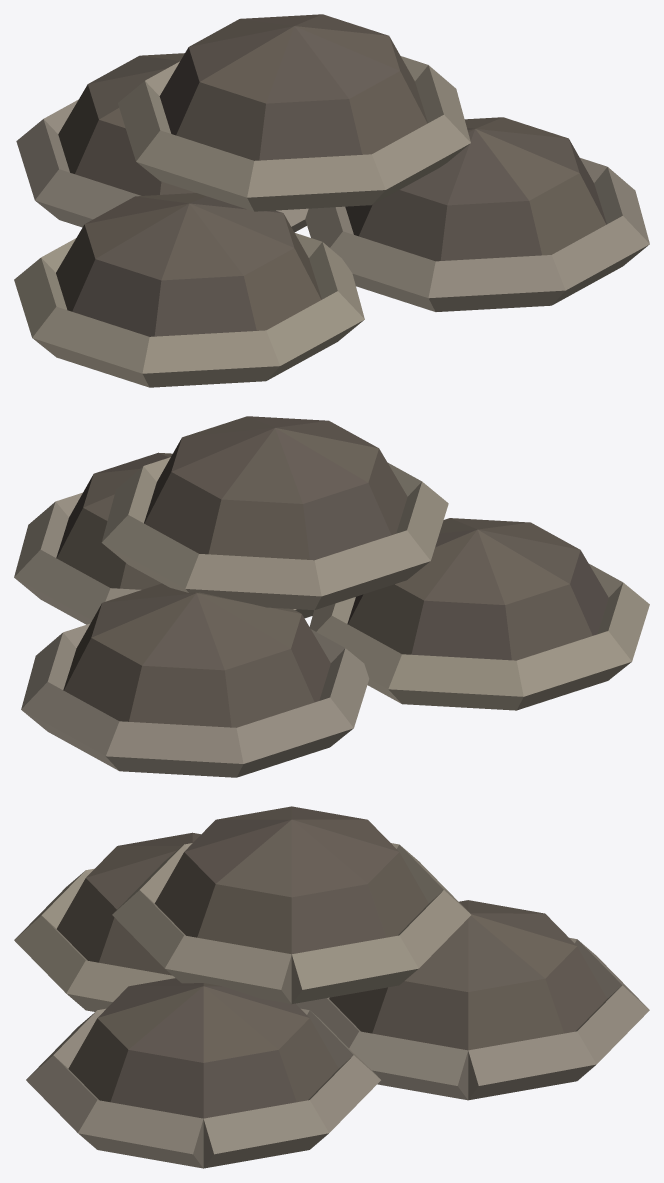
File: storage_fur_cap.glb
3 renders of one model, top to bottom at view 1: azimuth 30°, elevation 25°; view 2: azimuth 150°, elevation 25°; view 3: azimuth 270°, elevation 25°, orthographic.
Parts seen in each view (by area): view 1: storage_fur_cap; view 2: storage_fur_cap; view 3: storage_fur_cap.
Boxes of the visible parts, left/top/right/bottom form: storage_fur_cap: left=14, top=14, right=649, bottom=387; storage_fur_cap: left=14, top=416, right=649, bottom=777; storage_fur_cap: left=14, top=806, right=649, bottom=1168.
Bounding box in the file's own units: 1.24 × 0.4408 × 1.15.
